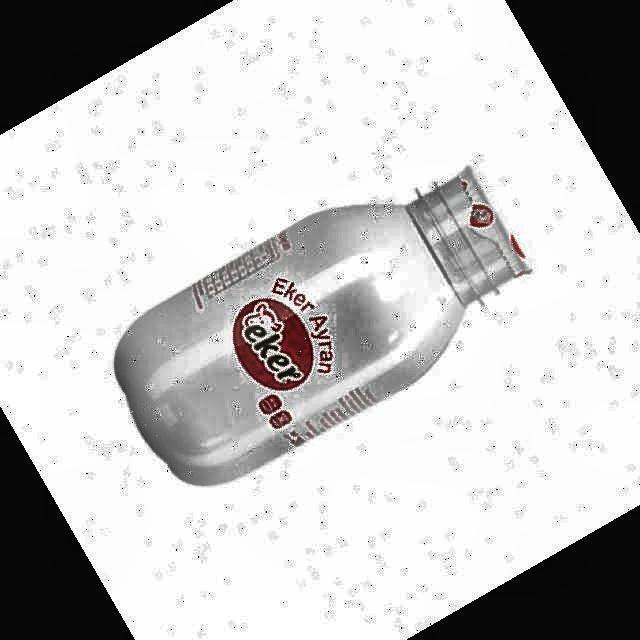plastic: (115, 168, 529, 485)
